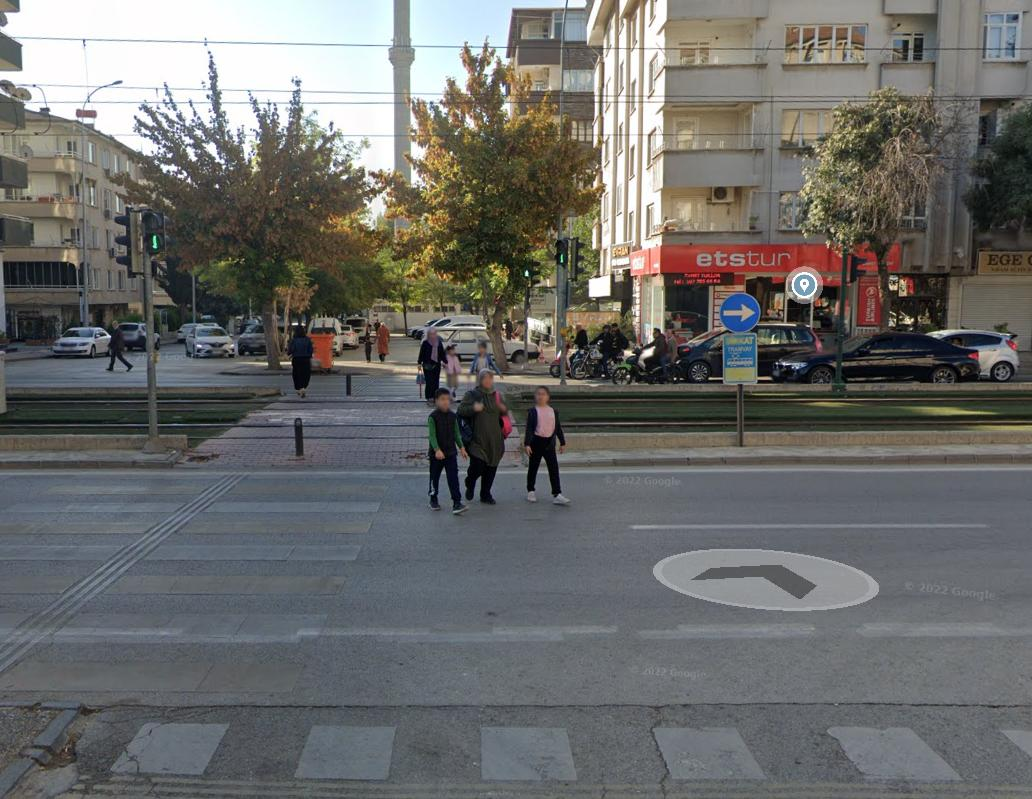turnright: (719, 294, 763, 333)
